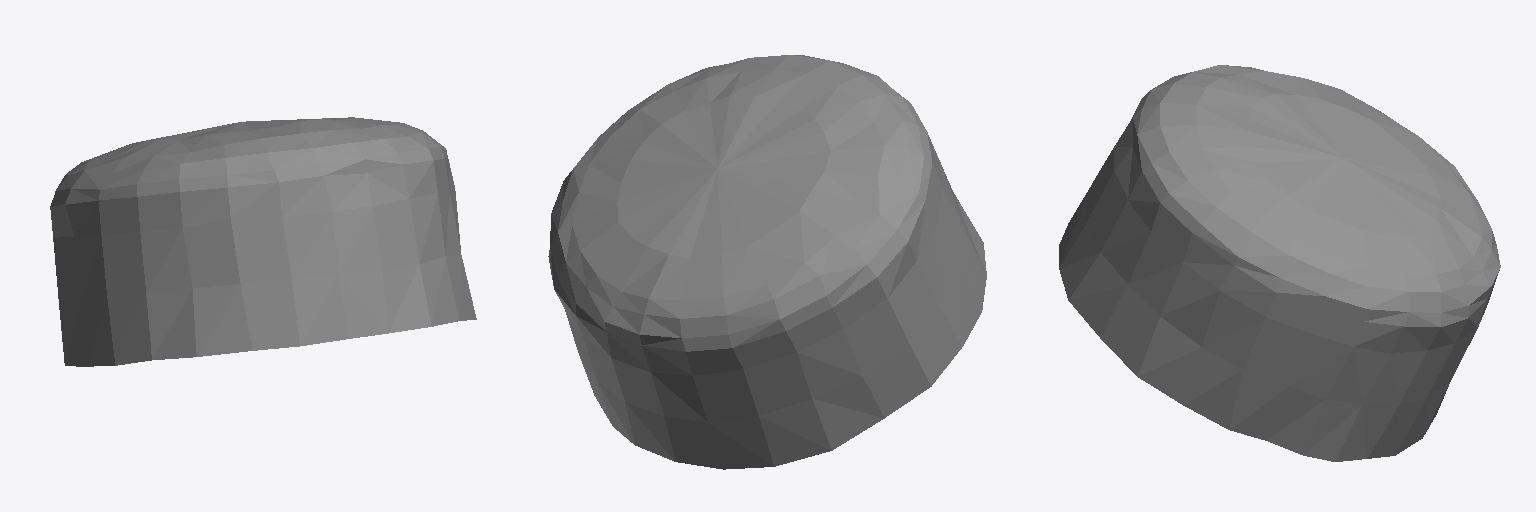
Rendered from left_y_button.obj.
3 renders of one model, left to right at view 1: azimuth 30°, elevation 25°; view 2: azimuth 150°, elevation 25°; view 3: azimuth 270°, elevation 25°, orthographic.
Visible parts, largest first — view 1: left_y_button; view 2: left_y_button; view 3: left_y_button.
Boxes of the visible parts, x1,y1,x2,y2 form: left_y_button: [50, 117, 476, 366]; left_y_button: [548, 55, 986, 469]; left_y_button: [1059, 65, 1500, 461].
Bounding box in the file's own units: 0.0091 × 0.0073 × 0.0096.